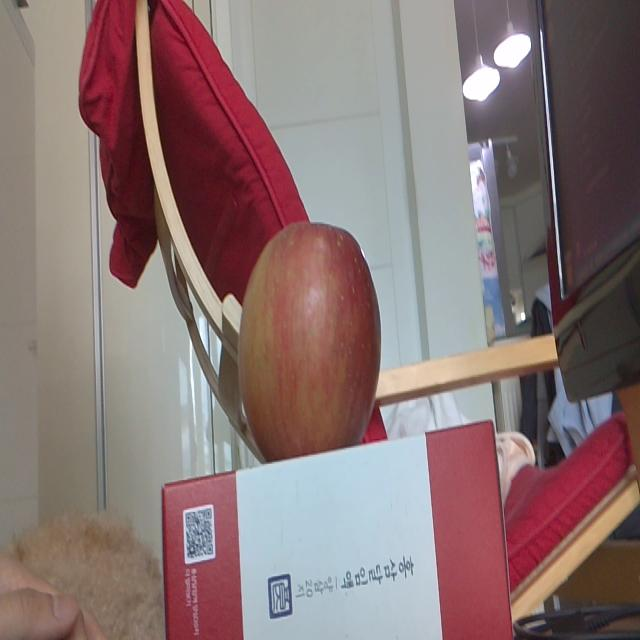apple: (235, 218, 385, 458)
